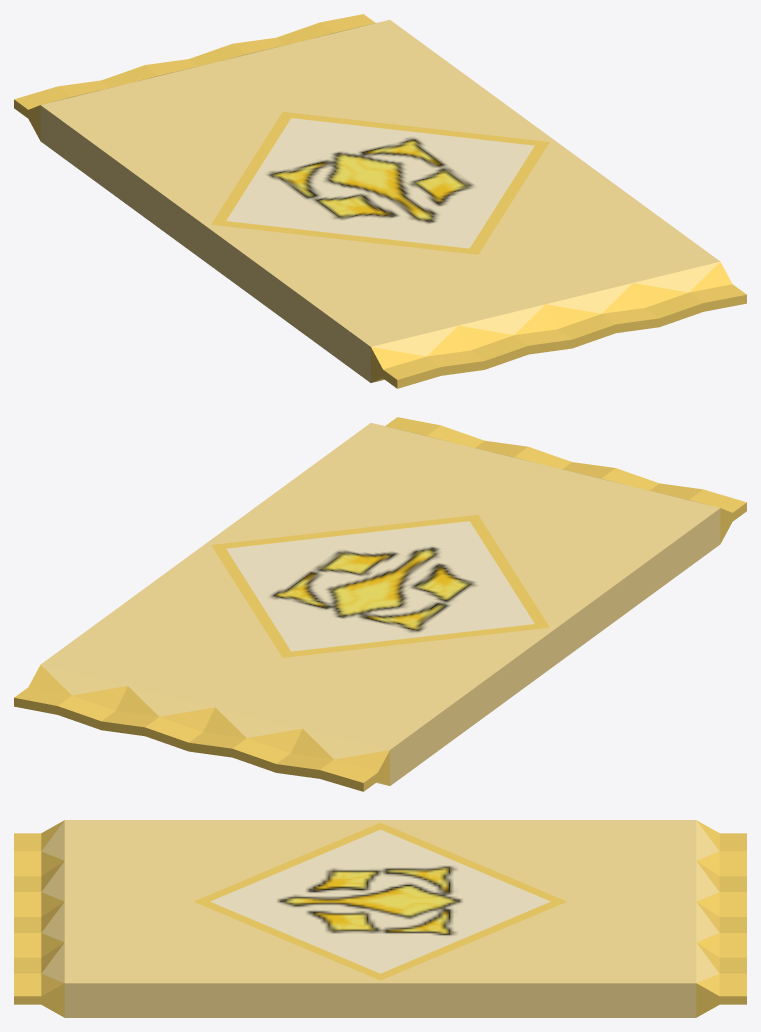
The model's file is CardPack_Light.fbx.
The picture shows the model from 3 angles, top to bottom: view 1: azimuth 30°, elevation 25°; view 2: azimuth 150°, elevation 25°; view 3: azimuth 270°, elevation 25°; orthographic projection. The views are drawn at different scales.
Parts seen in each view (by area): view 1: Light; view 2: Light; view 3: Light.
Part boxes in pixels (bbox=[...]): Light: bbox=[14, 14, 746, 388]; Light: bbox=[14, 417, 746, 791]; Light: bbox=[14, 820, 746, 1017].
Bounding box in the file's own units: 17.42 × 1.73 × 33.09.
